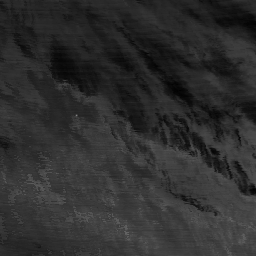Target: (72, 112, 79, 118)
